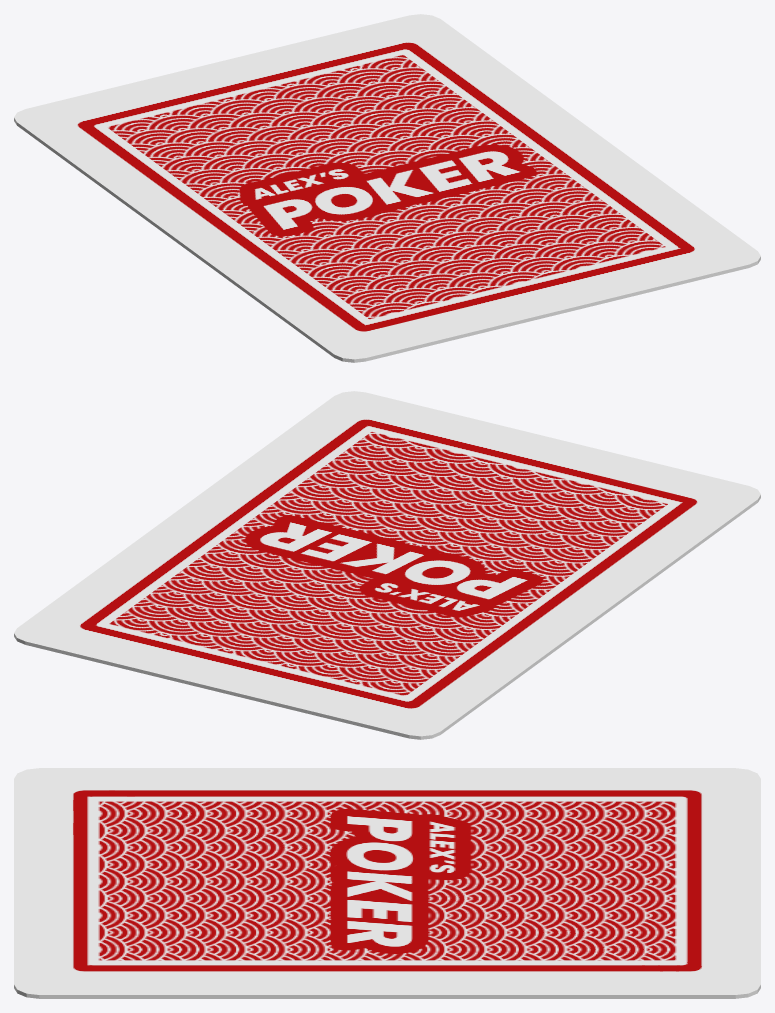
Rendered from card.fbx.
The picture shows the model from 3 angles, top to bottom: view 1: azimuth 30°, elevation 25°; view 2: azimuth 150°, elevation 25°; view 3: azimuth 270°, elevation 25°; orthographic projection. The views are drawn at different scales.
Parts seen in each view (by area): view 1: Plane.001; view 2: Plane.001; view 3: Plane.001.
Part boxes in pixels (bbox=[...]): Plane.001: bbox=[14, 14, 760, 362]; Plane.001: bbox=[14, 391, 760, 739]; Plane.001: bbox=[14, 768, 760, 998].
Bounding box in the file's own units: 6.4 × 0.05 × 8.9.
